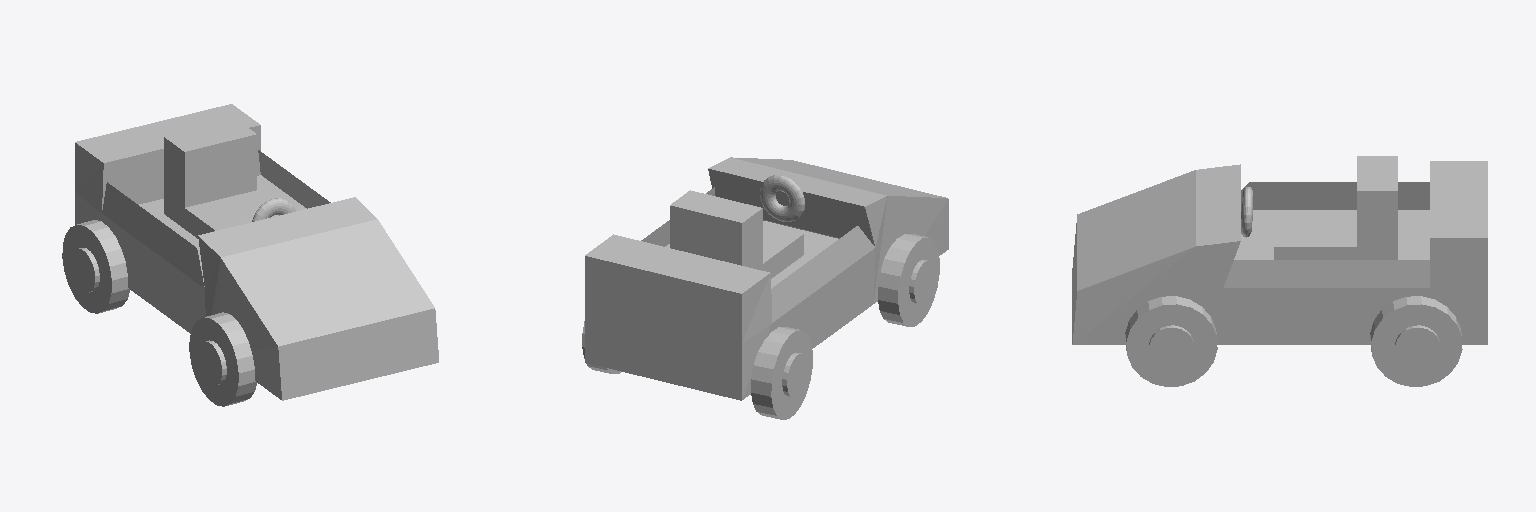
File: BoxCar.obj
3 views of the same model, side by side, from view 1: azimuth 30°, elevation 25°; view 2: azimuth 150°, elevation 25°; view 3: azimuth 270°, elevation 25° (orthographic).
Parts seen in each view (by area): view 1: pCube1, pCube2, pCylinder3, pCylinder4, pCylinder8, pCylinder7, pTorus1; view 2: pCube1, pCube2, pCylinder3, pCylinder4, pTorus1, pCylinder7, pCylinder8; view 3: pCube1, pCube2, pCylinder1, pCylinder2, pCylinder6, pCylinder5, pTorus1.
Boxes of the visible parts, <box> form: pCube1: <box>75,104,438,400</box>; pCube2: <box>164,119,278,238</box>; pCylinder3: <box>189,312,256,406</box>; pCylinder4: <box>62,220,129,313</box>; pCylinder8: <box>198,340,226,385</box>; pCylinder7: <box>71,248,99,292</box>; pTorus1: <box>252,198,295,221</box>; pCube1: <box>585,157,948,400</box>; pCube2: <box>670,190,803,278</box>; pCylinder3: <box>878,234,939,326</box>; pCylinder4: <box>751,327,812,419</box>; pTorus1: <box>760,175,804,221</box>; pCylinder7: <box>782,353,807,397</box>; pCylinder8: <box>909,260,934,304</box>; pCube1: <box>1072,161,1487,344</box>; pCube2: <box>1274,156,1397,259</box>; pCylinder1: <box>1125,296,1217,386</box>; pCylinder2: <box>1370,296,1462,386</box>; pCylinder6: <box>1395,325,1439,368</box>; pCylinder5: <box>1149,325,1193,368</box>; pTorus1: <box>1241,187,1252,237</box>.
Bounding box in the file's own units: 7.43 × 5.84 × 13.07.